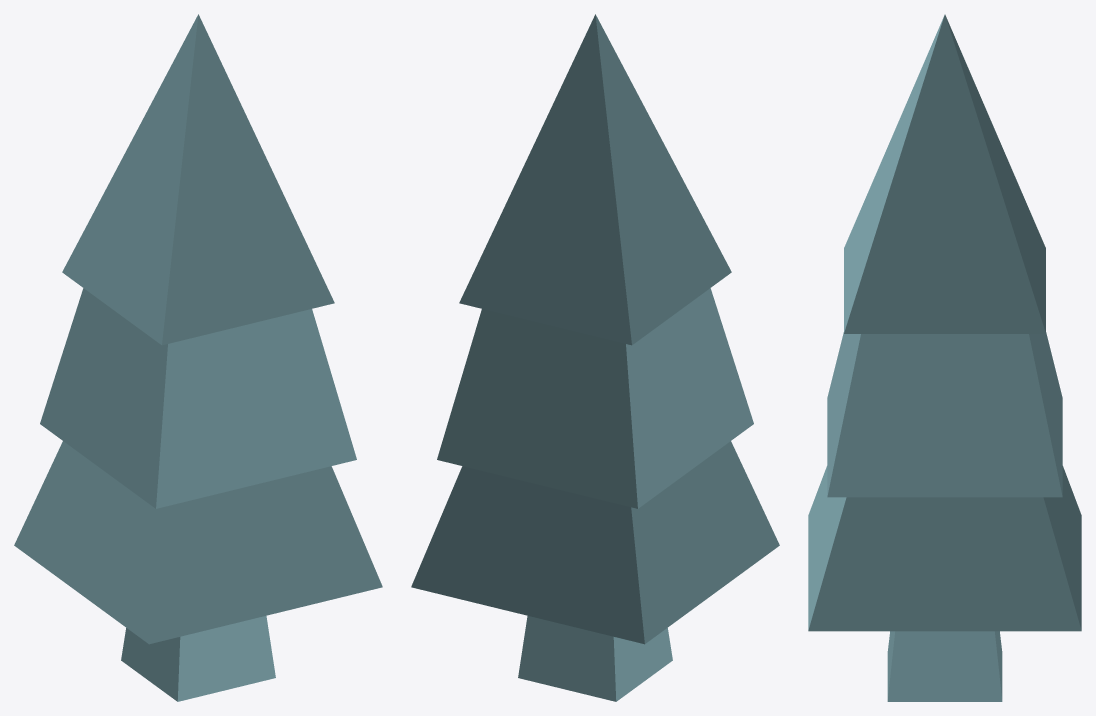
Rendered from tree_pineSmall_square1.glb.
The picture shows the model from 3 angles, left to right: view 1: azimuth 30°, elevation 25°; view 2: azimuth 150°, elevation 25°; view 3: azimuth 270°, elevation 25°; orthographic projection.
Parts seen in each view (by area): view 1: tree_pineSmall_square1; view 2: tree_pineSmall_square1; view 3: tree_pineSmall_square1.
Boxes of the visible parts, bbox=[...] form: tree_pineSmall_square1: bbox=[14, 14, 382, 701]; tree_pineSmall_square1: bbox=[411, 14, 779, 701]; tree_pineSmall_square1: bbox=[808, 14, 1081, 701].
Size of the model in its own units: 3.57 by 9.56 by 3.57.
